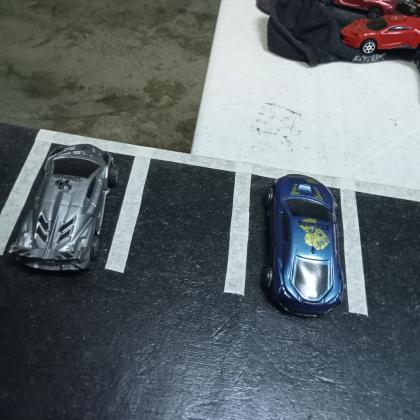Car: (7, 141, 119, 274)
